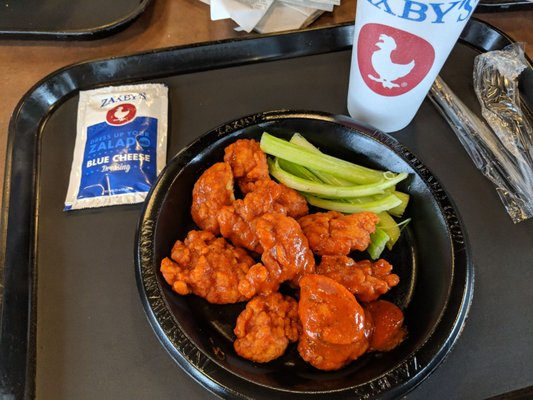sushi: (138, 110, 485, 400)
